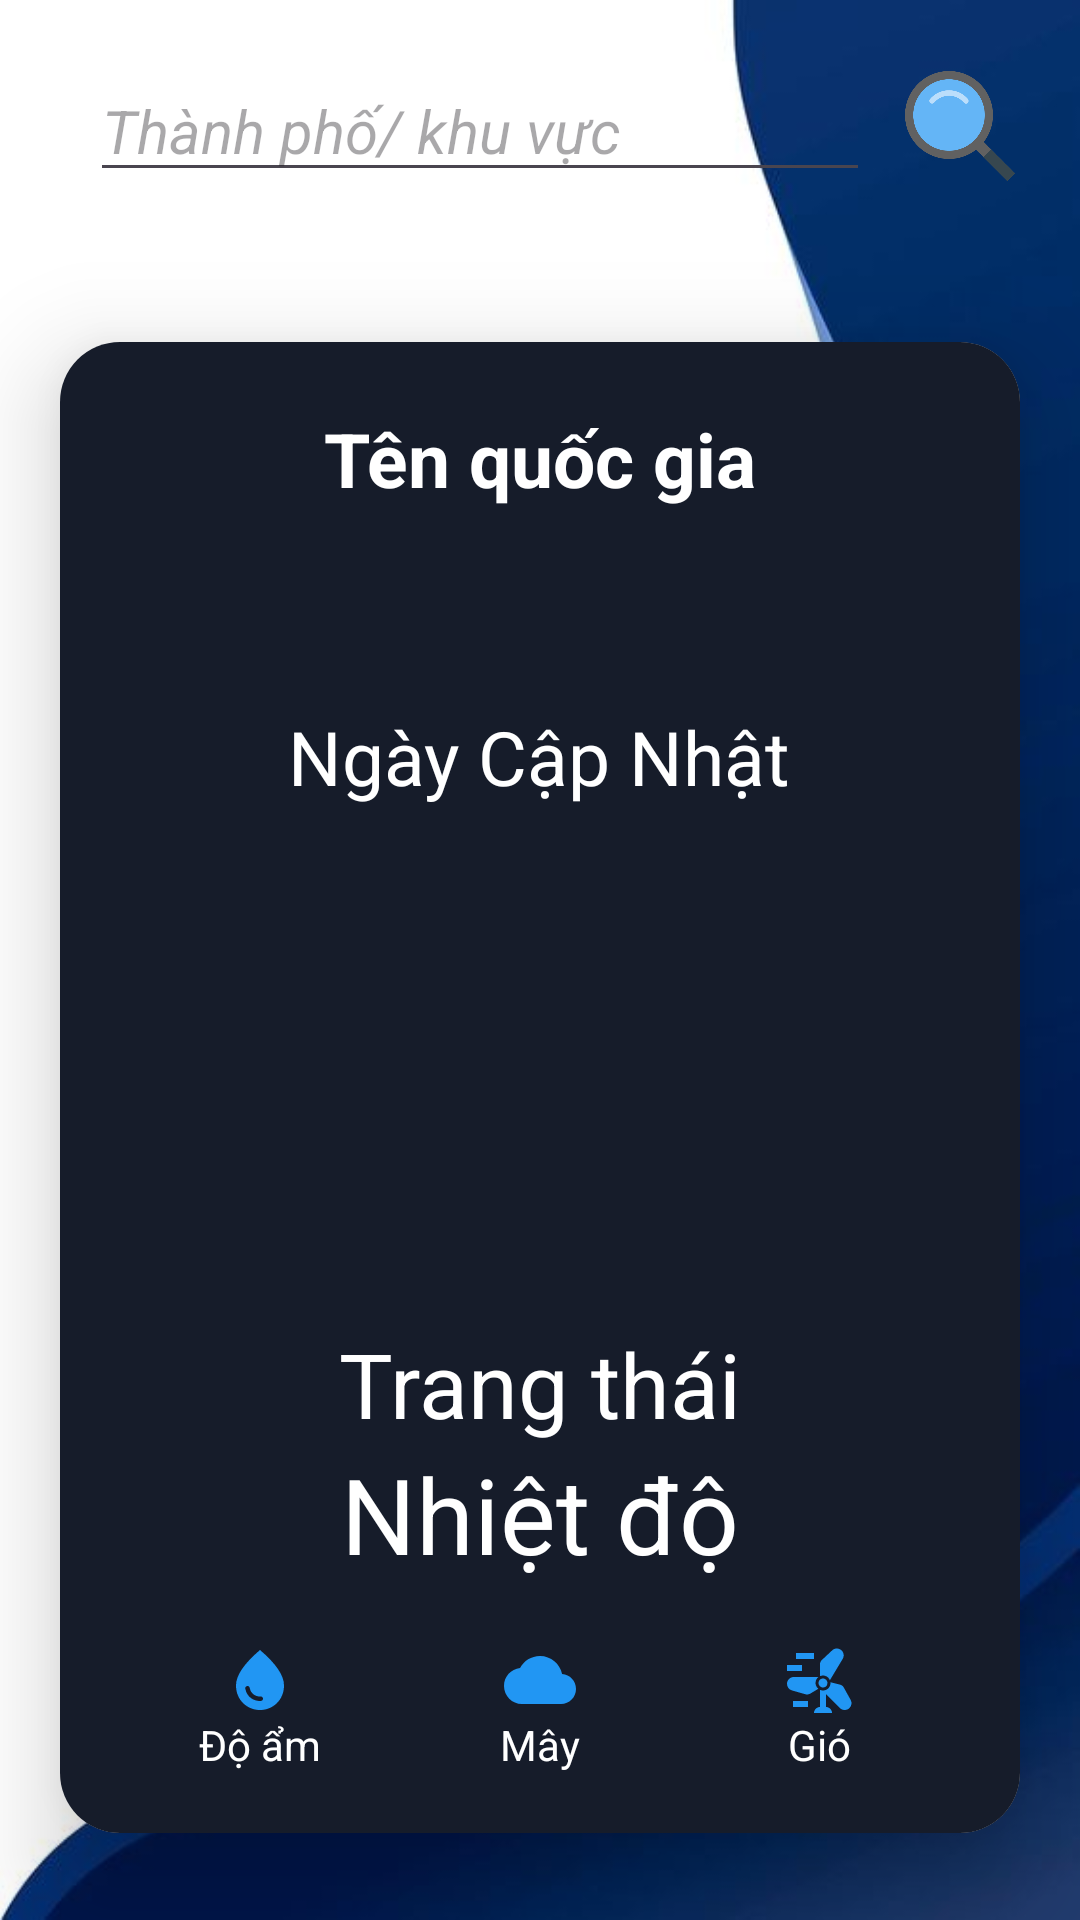

Screen size 1080 × 1920. Icon name, then its center in pixels as (x,y):
search: (960,126)
water drop: (260,1680)
wind power: (819,1680)
